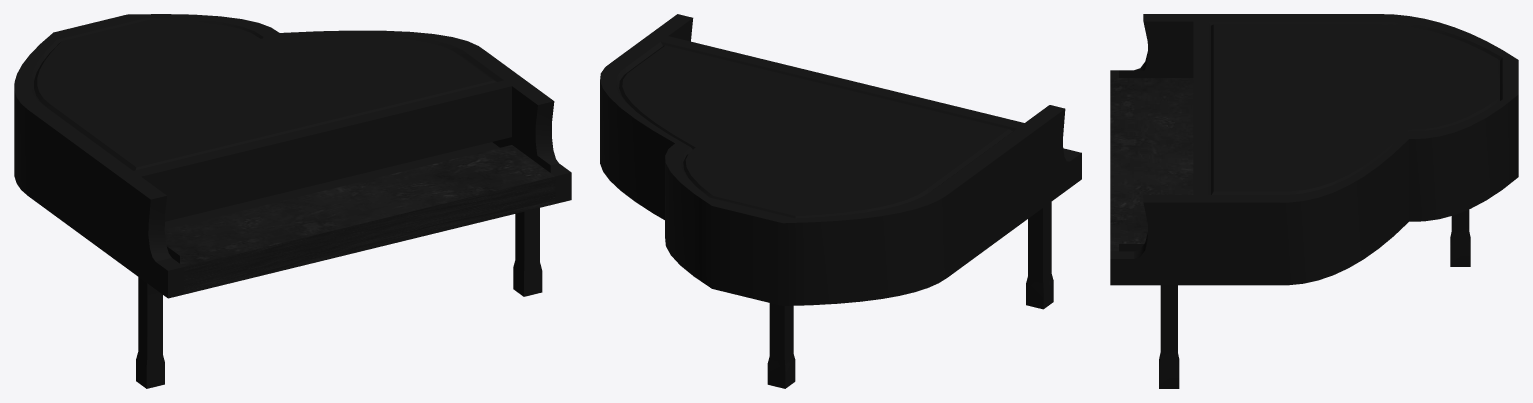
The model's file is piano.glb.
3 renders of one model, left to right at view 1: azimuth 30°, elevation 25°; view 2: azimuth 150°, elevation 25°; view 3: azimuth 270°, elevation 25°, orthographic. The views are drawn at different scales.
Parts seen in each view (by area): view 1: Grand Piano; view 2: Grand Piano; view 3: Grand Piano.
Part boxes in pixels (bbox=[...]): Grand Piano: bbox=[14, 14, 571, 388]; Grand Piano: bbox=[600, 14, 1081, 388]; Grand Piano: bbox=[1110, 14, 1518, 388].
Bounding box in the file's own units: 12.25 × 5.69 × 11.19.
Materials: 1 (1 with a texture image).
